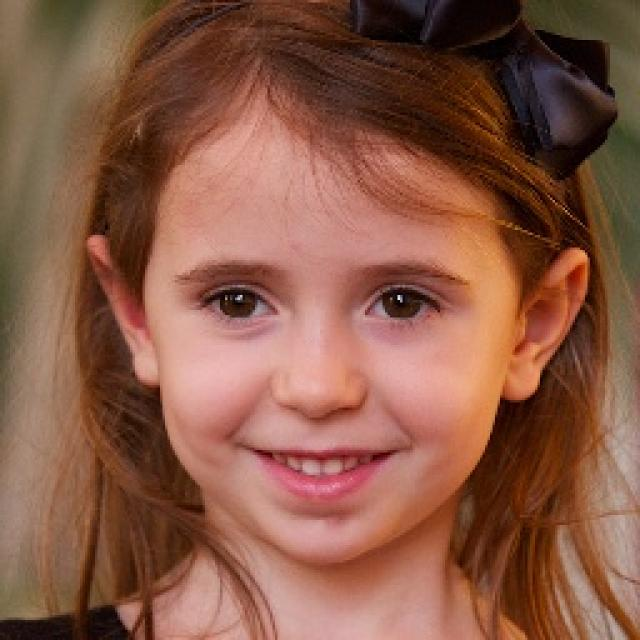earlobe: (498, 248, 589, 402), (86, 235, 161, 390)
